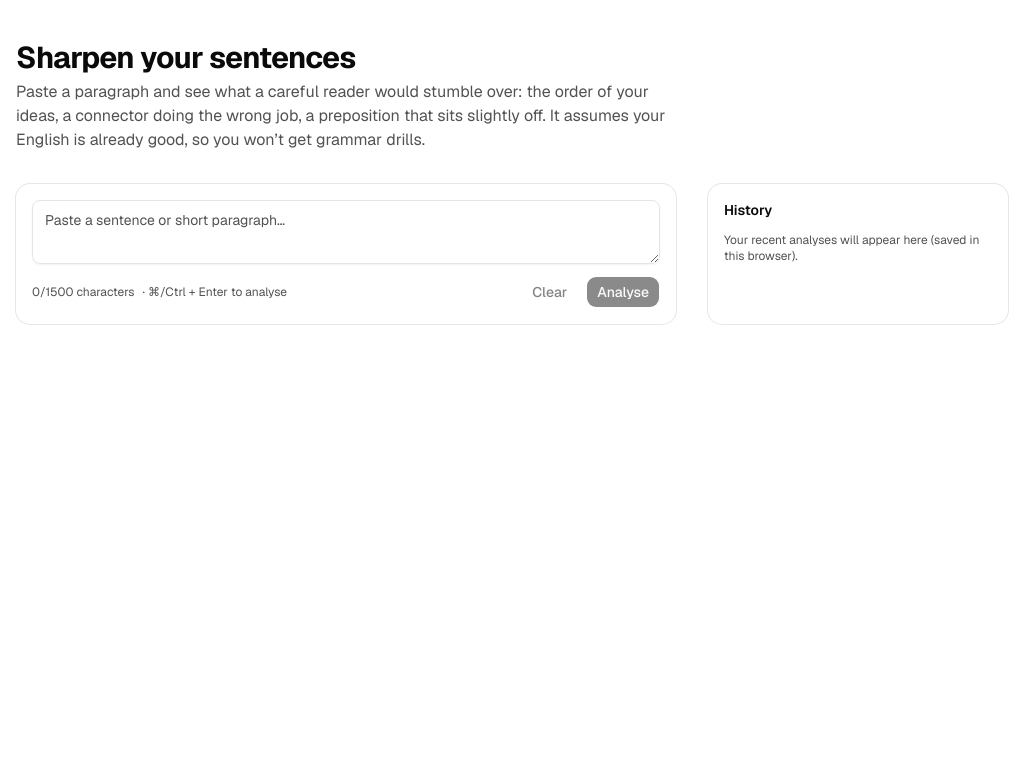
it: analysing › reports when the text has no issues
The width and height of the screenshot is (1024, 768).
Type "The cat sat" into the text box at (346, 232), box [32, 200, 660, 264]
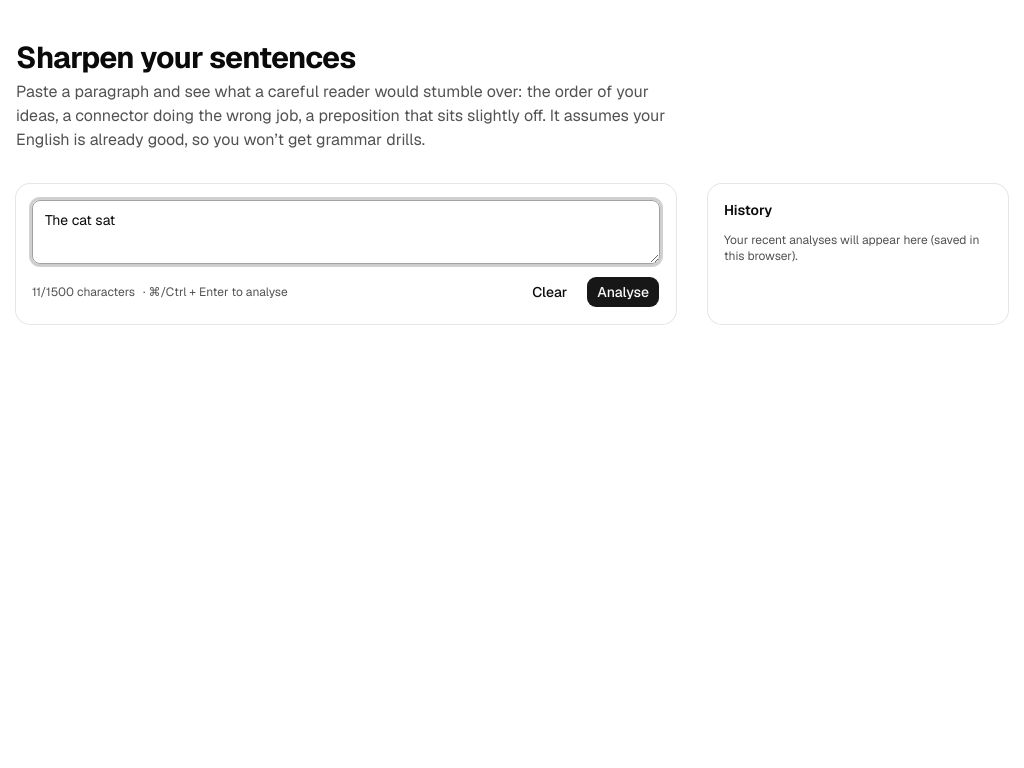
Click the button "Analyse" at (623, 292), box [586, 276, 660, 308]
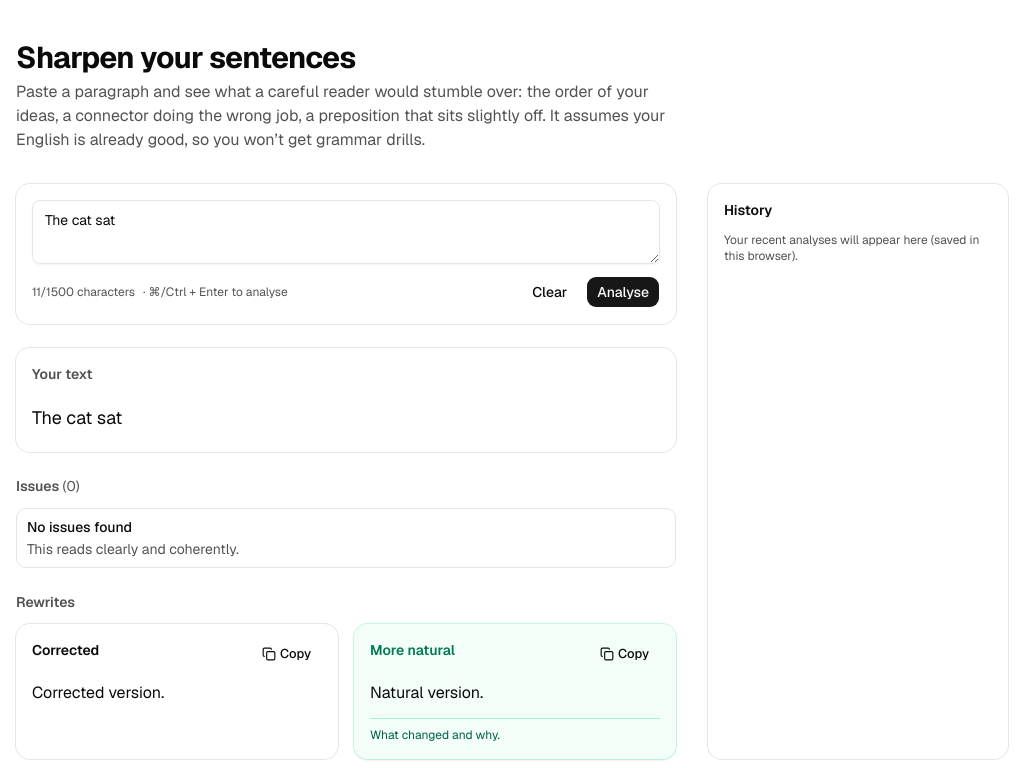
Result: the text "No issues found" is shown at [27, 518, 132, 536]
